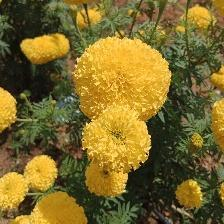marigold: (74, 34, 173, 126)
